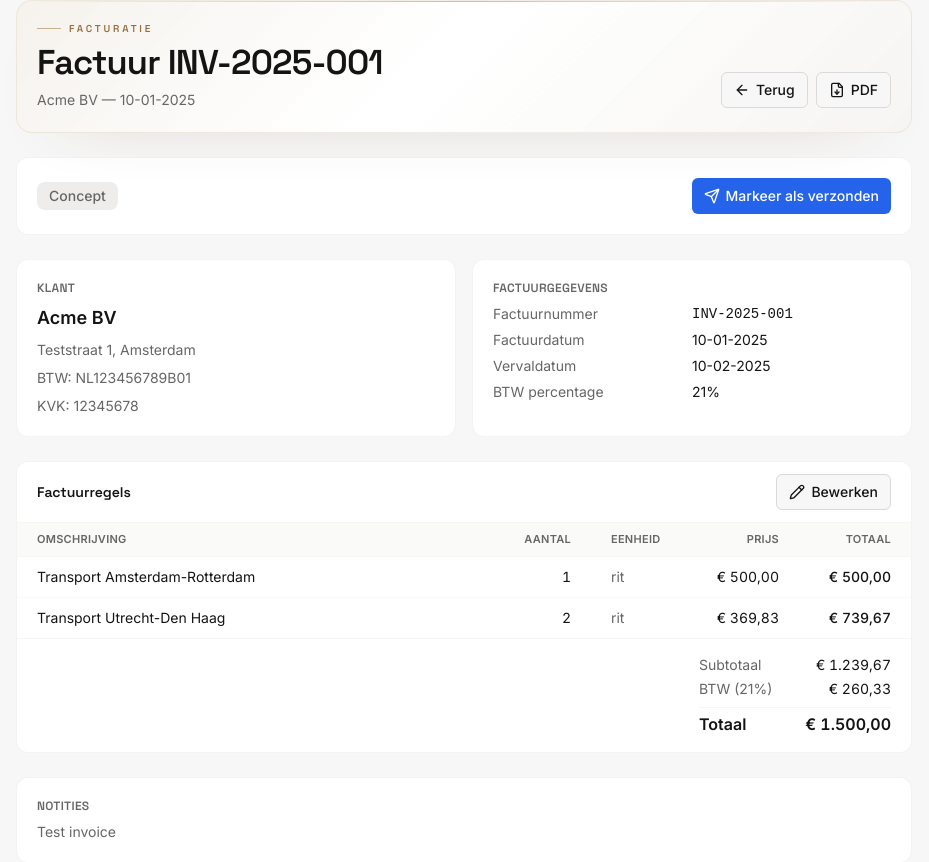
Test: FacturatieDetail › enters editing mode when clicking Bewerken (startEditing)
The width and height of the screenshot is (929, 862).
Click the button "Bewerken" at (834, 492), box [776,474,891,510]
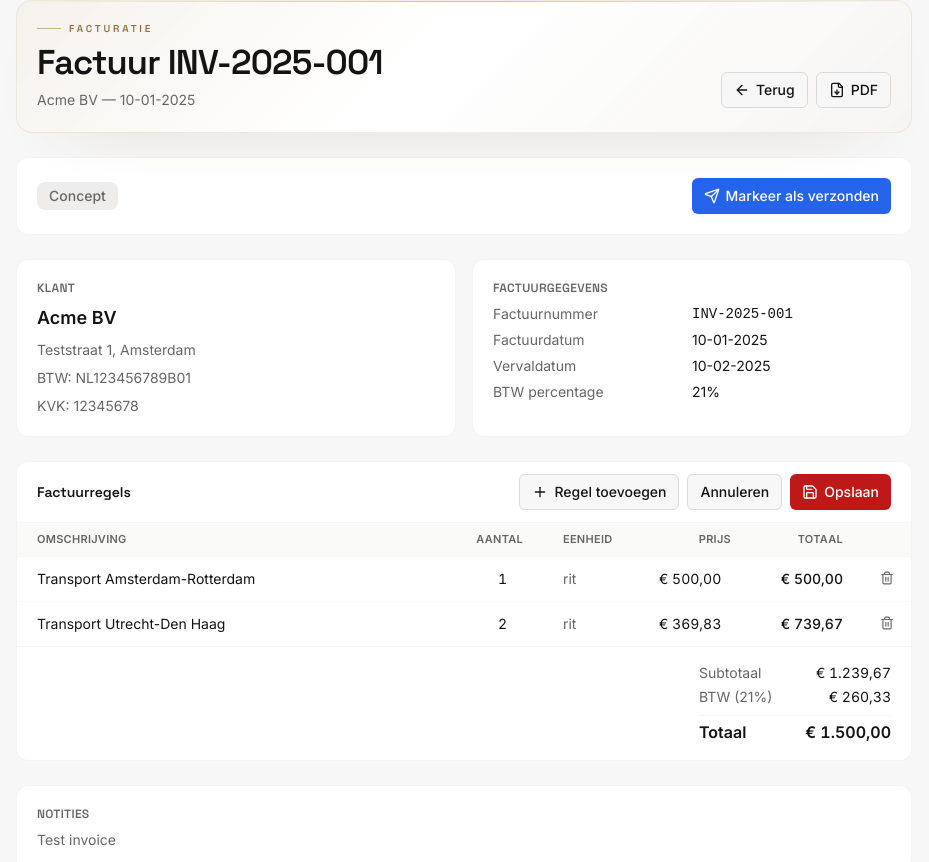
Check: the button "Annuleren" is shown, box [688,474,782,510]
Check: the button "Opslaan" is shown, box [790,474,891,510]
Check: the button "Regel toevoegen" is shown, box [519,474,680,510]
